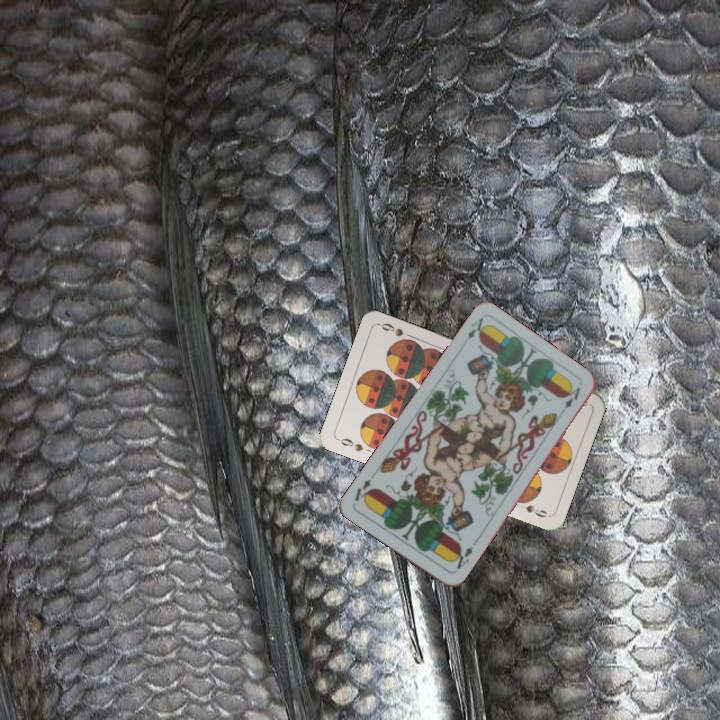EA: (448, 542, 476, 575), (463, 314, 489, 342)
S9: (333, 434, 366, 454)
